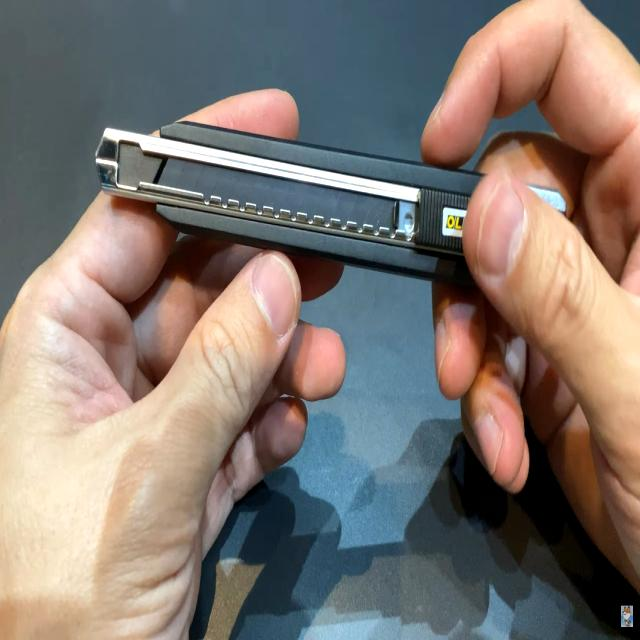cutter: (51, 84, 640, 387)
